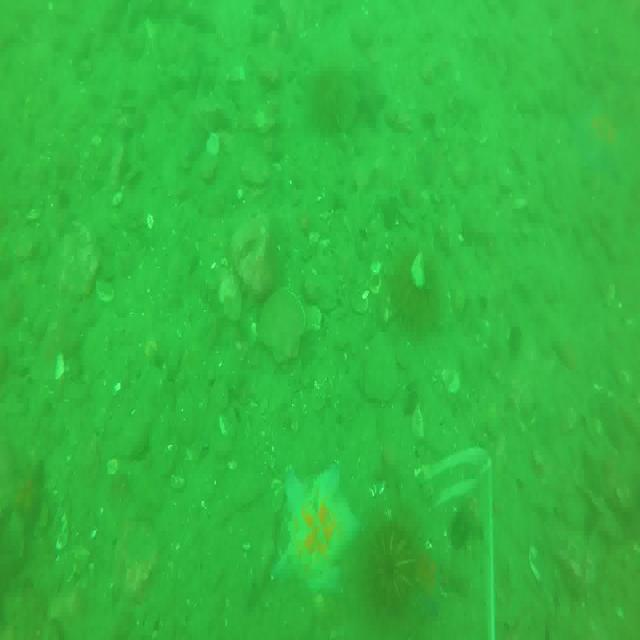echinus: (366, 513, 419, 617), (397, 258, 448, 342), (307, 58, 356, 138)
scallop: (258, 291, 307, 364), (354, 272, 380, 312), (216, 272, 241, 306), (94, 278, 115, 308), (412, 409, 431, 441)
starfish: (274, 469, 362, 600), (10, 447, 50, 530)
